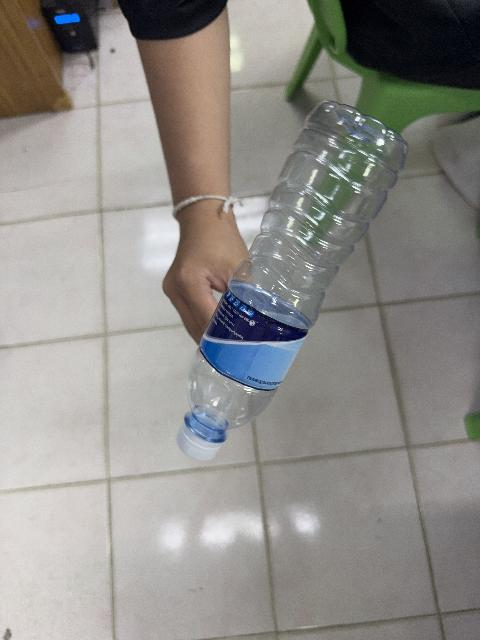bottle: (177, 102, 407, 459)
